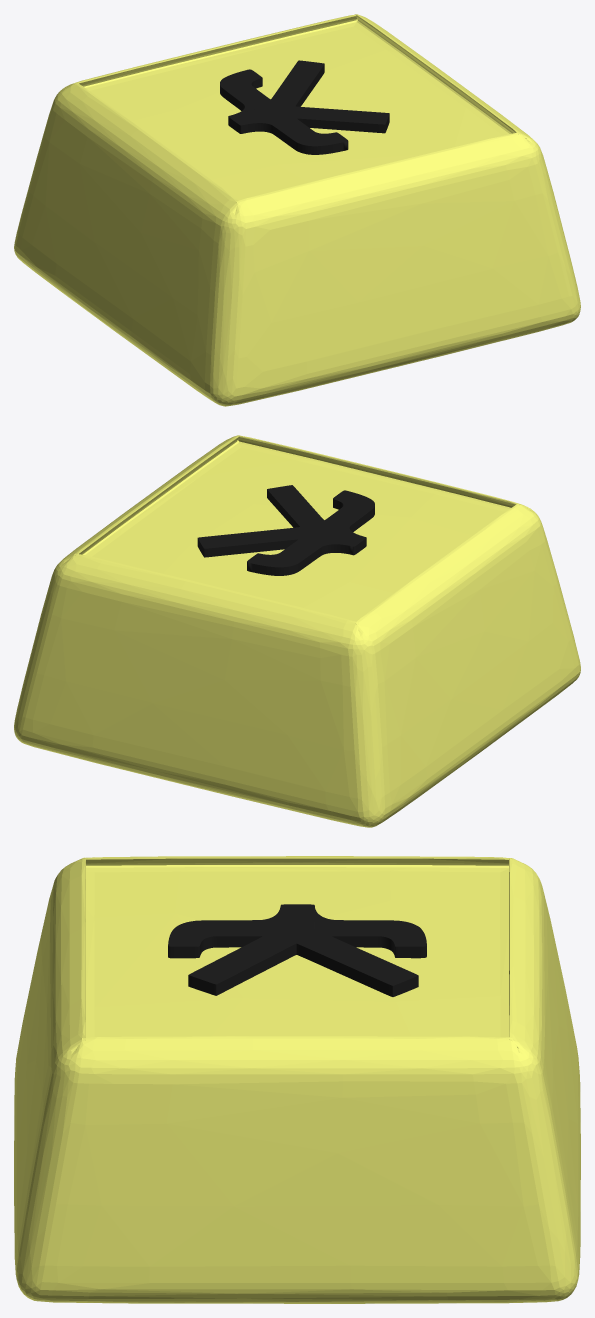
The model's file is kayao_tecla.glb.
3 views of the same model, one above another, from view 1: azimuth 30°, elevation 25°; view 2: azimuth 150°, elevation 25°; view 3: azimuth 270°, elevation 25° (orthographic). The views are drawn at different scales.
Visible parts, largest first — view 1: Keycap_Body, Logo_Fill; view 2: Keycap_Body, Logo_Fill; view 3: Keycap_Body, Logo_Fill.
Part boxes in pixels (box(x1,y1,x2,y2)): Keycap_Body: box(14, 14, 580, 406); Logo_Fill: box(220, 60, 389, 154); Keycap_Body: box(14, 435, 580, 827); Logo_Fill: box(197, 485, 374, 575); Keycap_Body: box(14, 856, 580, 1303); Logo_Fill: box(168, 904, 426, 996).
Bounding box in the file's own units: 1.75 × 0.8513 × 1.75.
